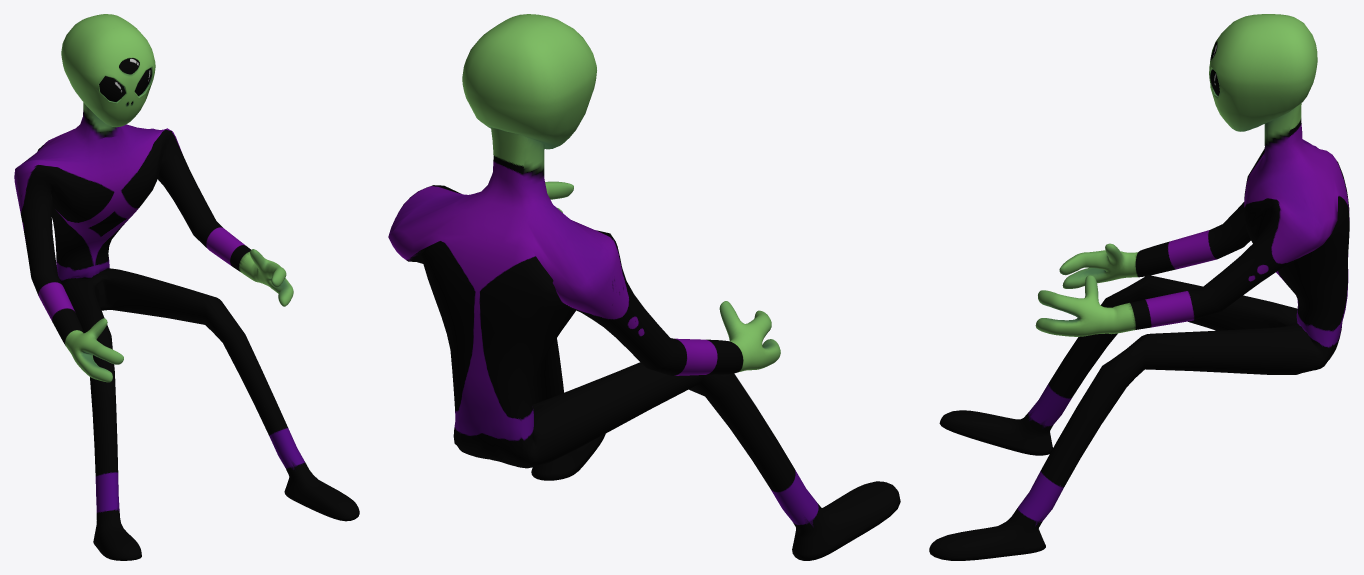
Rendered from Alien_UFO.fbx.
3 views of the same model, side by side, from view 1: azimuth 30°, elevation 25°; view 2: azimuth 150°, elevation 25°; view 3: azimuth 270°, elevation 25° (orthographic). The views are drawn at different scales.
Parts seen in each view (by area): view 1: Alien_Neutral_Body, Head_Neutral_Head; view 2: Alien_Neutral_Body, Head_Neutral_Head; view 3: Alien_Neutral_Body, Head_Neutral_Head.
Boxes of the visible parts, x1,y1,x2,y2 form: Alien_Neutral_Body: (14, 102, 359, 560); Head_Neutral_Head: (61, 14, 155, 127); Alien_Neutral_Body: (388, 127, 900, 560); Head_Neutral_Head: (462, 14, 596, 149); Alien_Neutral_Body: (929, 103, 1349, 560); Head_Neutral_Head: (1209, 14, 1317, 131).
Bounding box in the file's own units: 0.8382 × 1.4 × 1.09.
